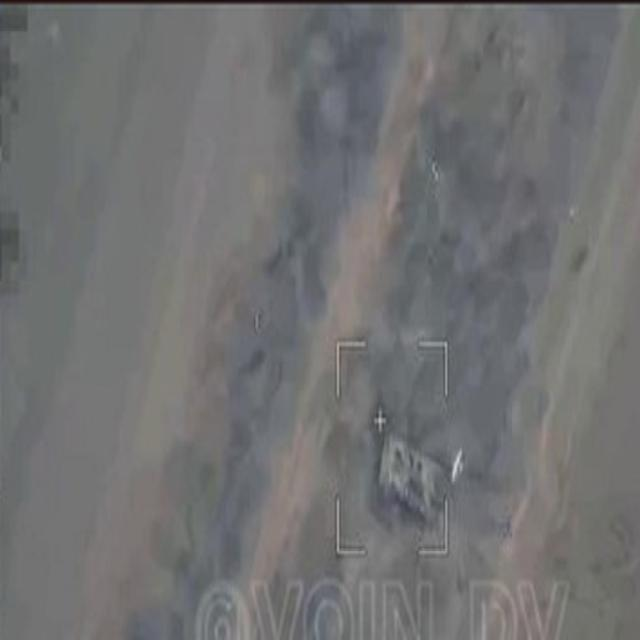ART: (376, 426, 449, 526)
